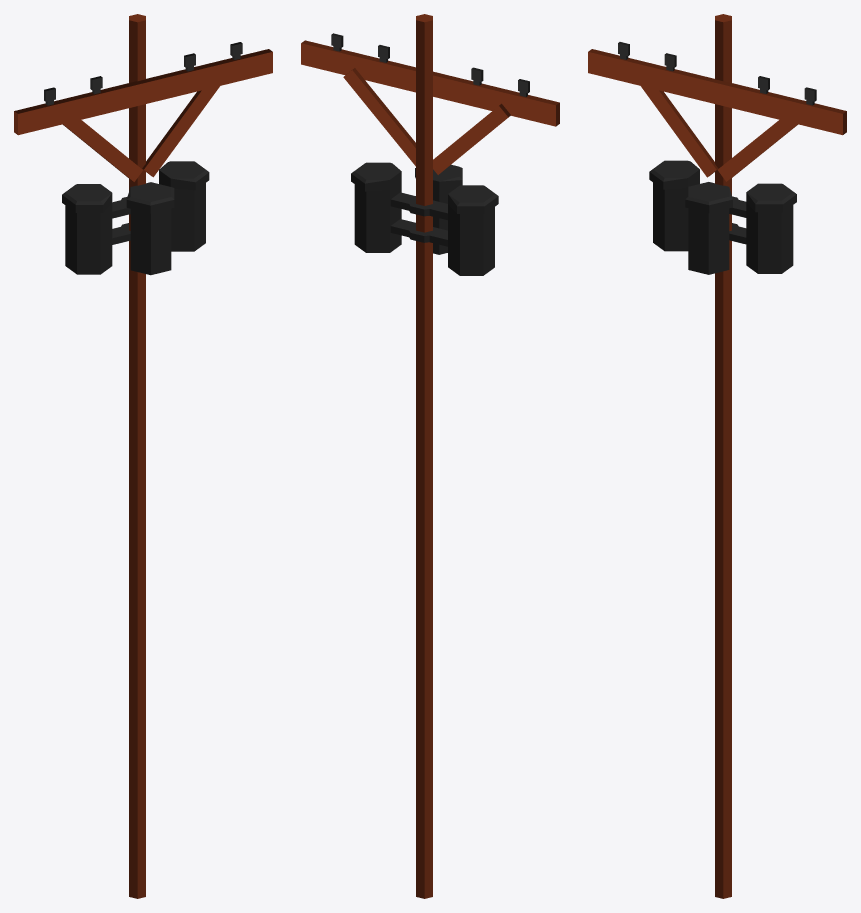
File: Mesh_UtilityPole.fbx
3 views of the same model, side by side, from view 1: azimuth 30°, elevation 25°; view 2: azimuth 150°, elevation 25°; view 3: azimuth 330°, elevation 25° (orthographic).
Visible parts, largest first — view 1: Cylinder003; view 2: Cylinder003; view 3: Cylinder003.
Part boxes in pixels (x1,y1,x2,y2): Cylinder003: (14,14,272,898); Cylinder003: (301,14,559,898); Cylinder003: (588,14,846,898).
Bounding box in the file's own units: 75 × 247 × 20.52.
